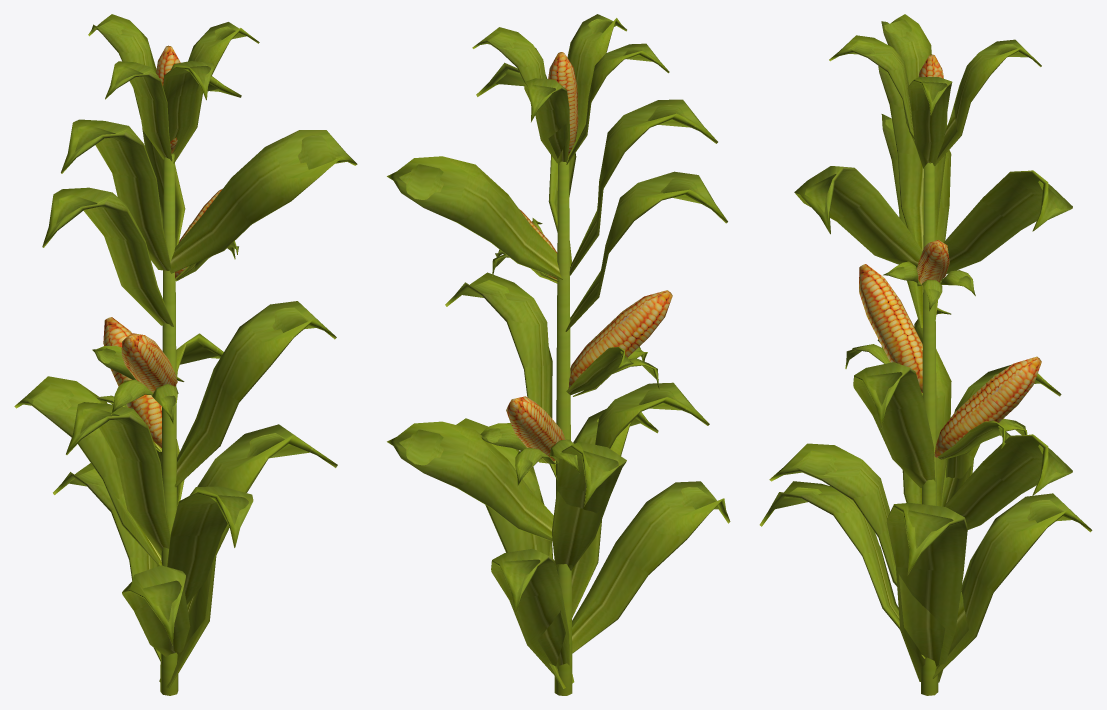
File: corn.dae
3 renders of one model, left to right at view 1: azimuth 30°, elevation 25°; view 2: azimuth 150°, elevation 25°; view 3: azimuth 270°, elevation 25°, orthographic.
Parts seen in each view (by area): view 1: Circle_020; view 2: Circle_020; view 3: Circle_020.
Boxes of the visible parts, x1,y1,x2,y2 form: Circle_020: (14,14,357,695); Circle_020: (387,14,730,695); Circle_020: (759,14,1092,695).
Size of the model in its own units: 1.17 by 1.12 by 2.41.
Materials: 2 (2 with a texture image).
